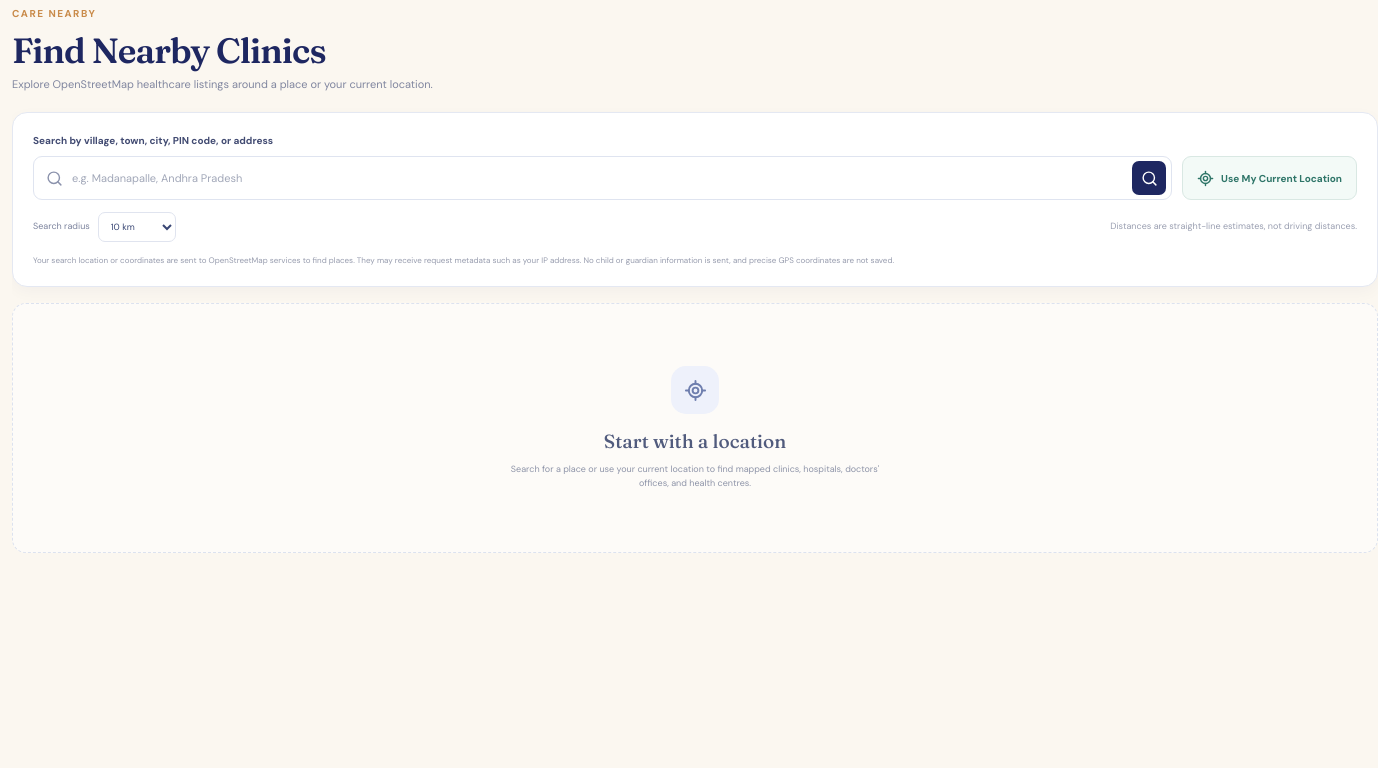
Test: ClinicsPage › does not request GPS permission until clicked and explains denied access
This screenshot has width=1378, height=768.
Click the button "Use My Current Location": [1270, 178] box top-left (1182, 156), bottom-right (1357, 200)
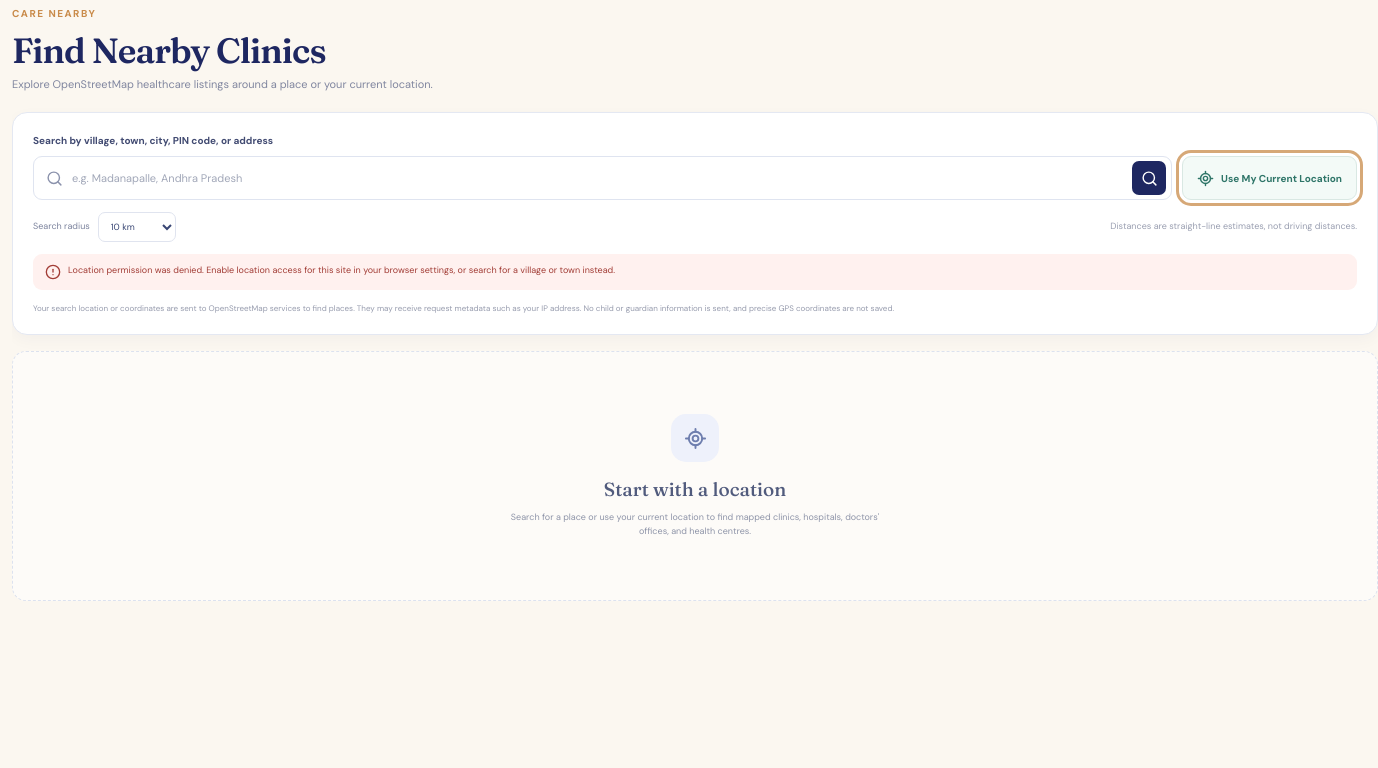
Now the text "Enable location access for this site in your browser settings" is shown, box top-left (68, 264), bottom-right (615, 276)
